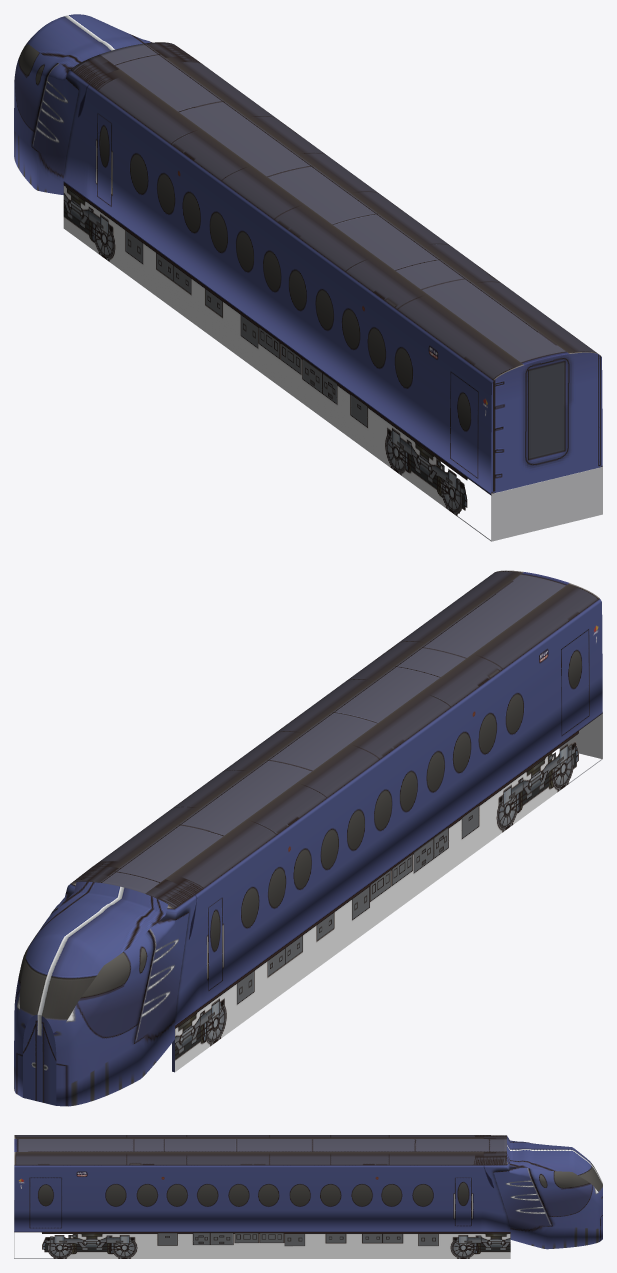
File: car6.glb
3 renders of one model, top to bottom at view 1: azimuth 30°, elevation 25°; view 2: azimuth 150°, elevation 25°; view 3: azimuth 270°, elevation 25°, orthographic. The views are drawn at different scales.
Parts seen in each view (by area): view 1: nankai-50000-car6; view 2: nankai-50000-car6; view 3: nankai-50000-car6.
Part boxes in pixels (x1=…): nankai-50000-car6: x1=14, y1=14, x2=602, y2=541; nankai-50000-car6: x1=14, y1=570, x2=602, y2=1106; nankai-50000-car6: x1=14, y1=1135, x2=602, y2=1258.
Bounding box in the file's own units: 2.85 × 4.14 × 22.49.
Materials: 7 (5 with a texture image).
